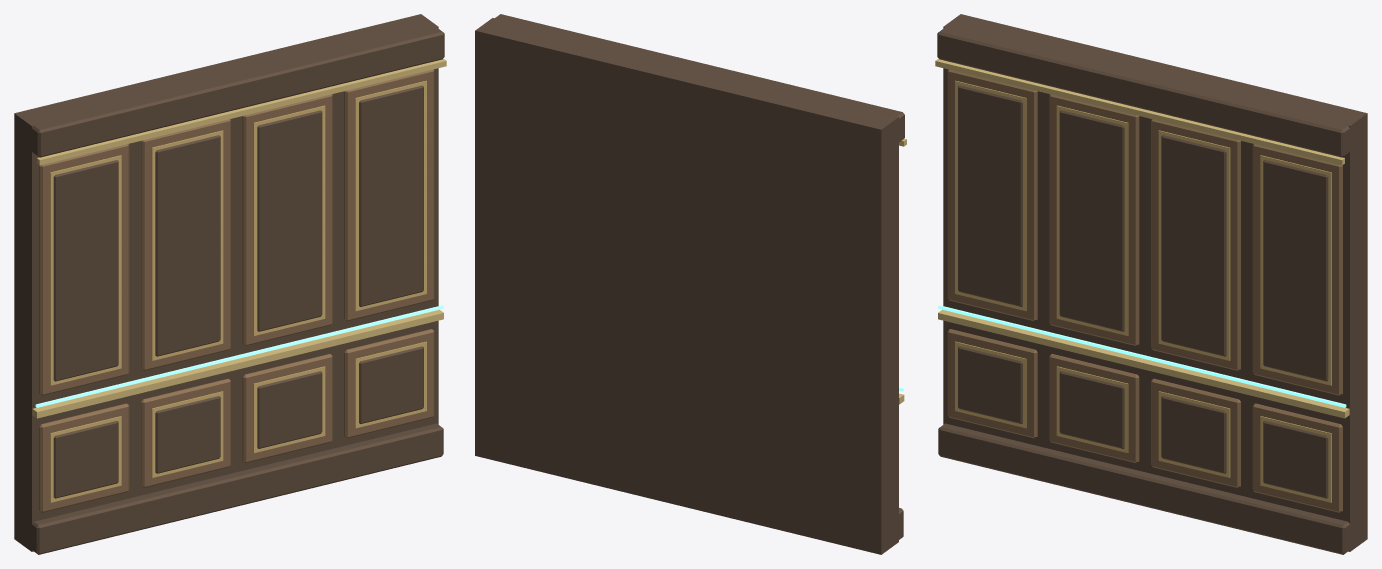
File: wall_ex_panel.glb
3 views of the same model, side by side, from view 1: azimuth 30°, elevation 25°; view 2: azimuth 150°, elevation 25°; view 3: azimuth 330°, elevation 25° (orthographic).
Visible parts, largest first — view 1: wall_ex_panel; view 2: wall_ex_panel; view 3: wall_ex_panel.
Boxes of the visible parts, x1=… form: wall_ex_panel: x1=14, y1=14, x2=446, y2=554; wall_ex_panel: x1=475, y1=14, x2=906, y2=554; wall_ex_panel: x1=935, y1=14, x2=1367, y2=554.
Size of the model in its own units: 4 by 4 by 0.435.
